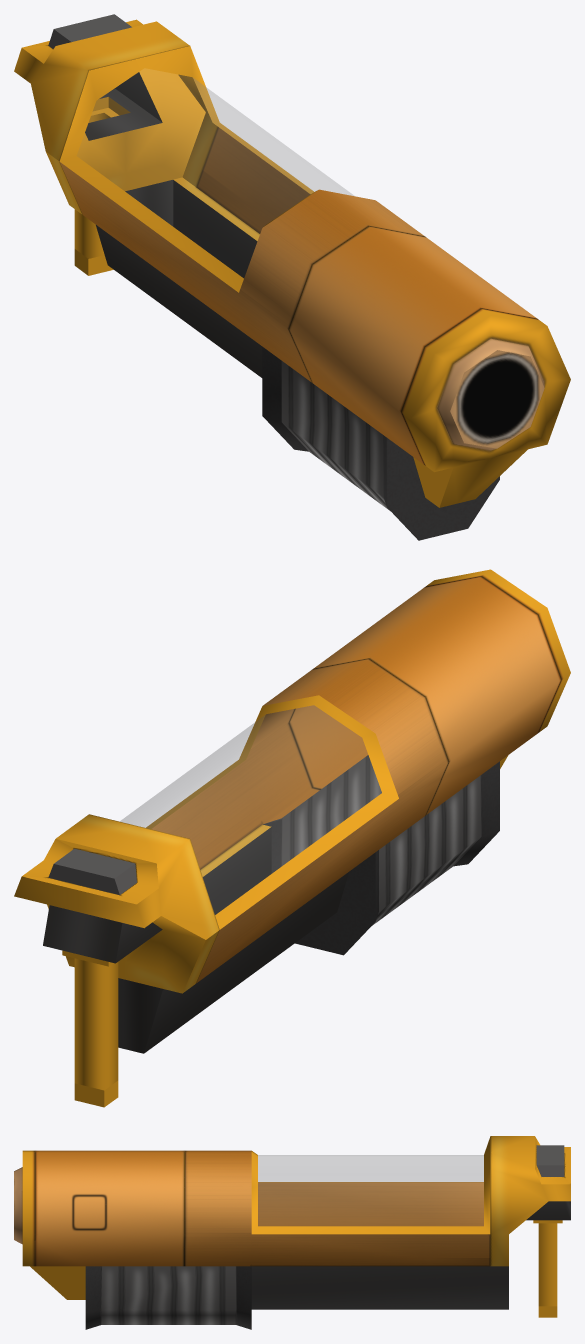
The model's file is armlessRaygun.fbx.
3 views of the same model, one above another, from view 1: azimuth 30°, elevation 25°; view 2: azimuth 150°, elevation 25°; view 3: azimuth 270°, elevation 25° (orthographic). The views are drawn at different scales.
Visible parts, largest first — view 1: EnergyGun; view 2: EnergyGun; view 3: EnergyGun.
Part boxes in pixels (bbox=[...]): EnergyGun: bbox=[14, 14, 570, 540]; EnergyGun: bbox=[14, 569, 570, 1107]; EnergyGun: bbox=[14, 1136, 570, 1329].
Size of the model in its own units: 2.79 by 12.62 by 4.23.
